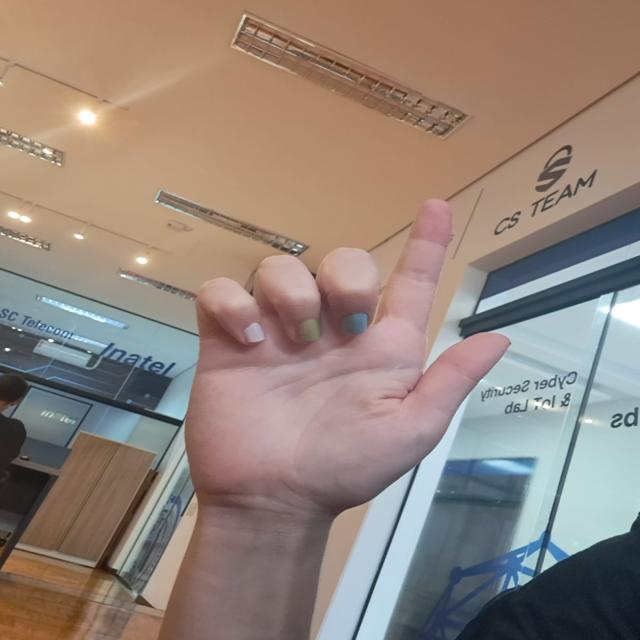G: (163, 190, 549, 532)
